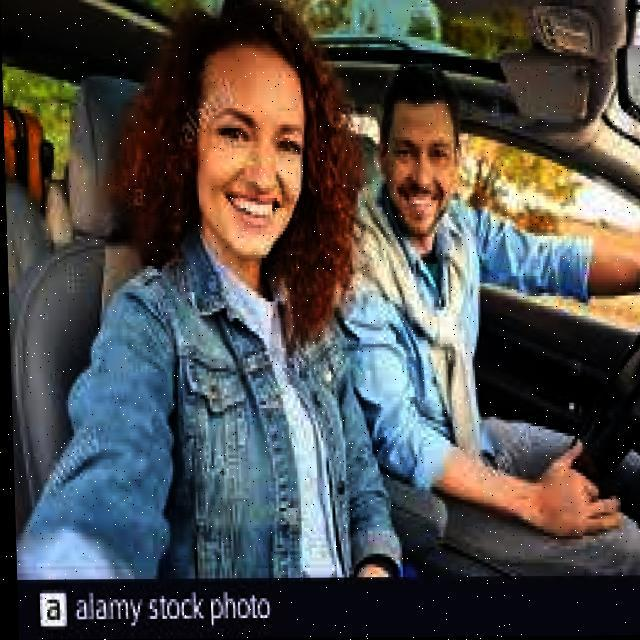noSeatbelt: (111, 256, 368, 580), (333, 196, 520, 434)
